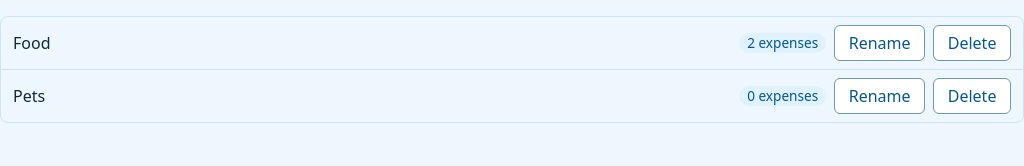
Test case: refuses to delete an in-use category without opening the dialog
Click the button with aria-label "Delete Food" at (972, 43), box [933,25,1011,61]
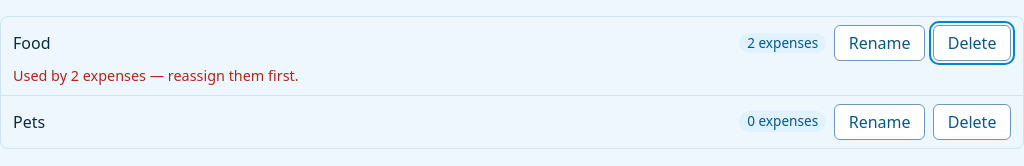
Check: the message reads "Used by 2 expenses — reassign them first.", box [13,66,299,85]
